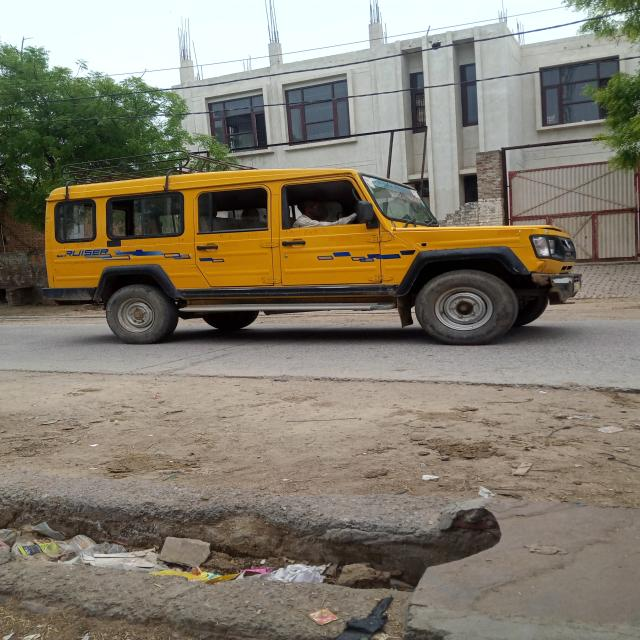Car: (35, 172, 587, 334)
